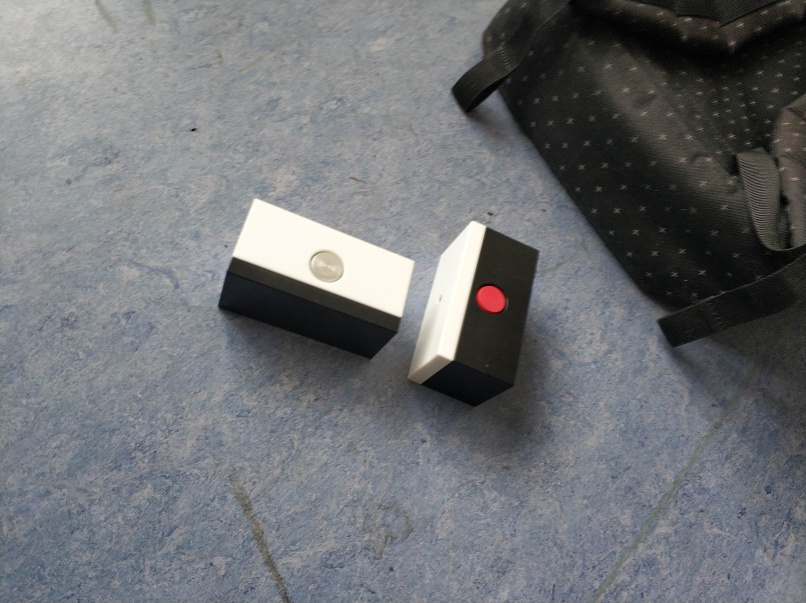black+white+silver: (217, 195, 417, 360)
white+black+red: (405, 216, 543, 408)
